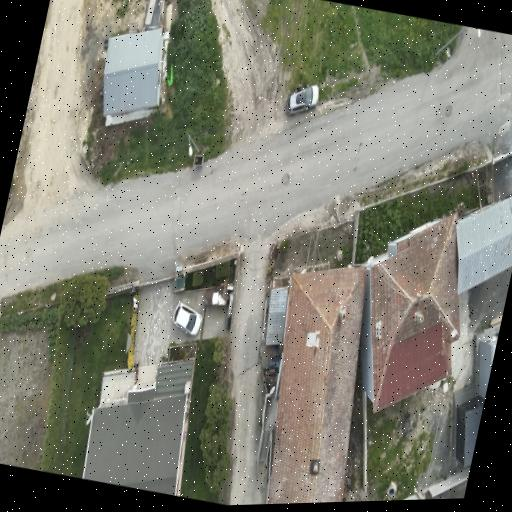car: (286, 84, 318, 113), (173, 302, 201, 334)
